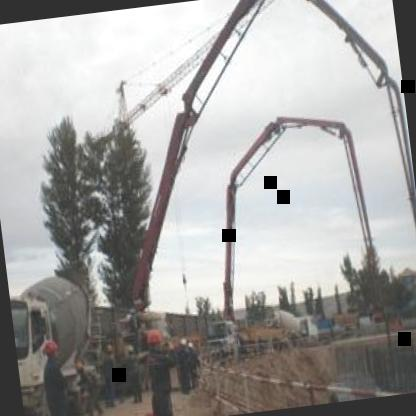helmet: (146, 322, 169, 352), (41, 339, 64, 367)
